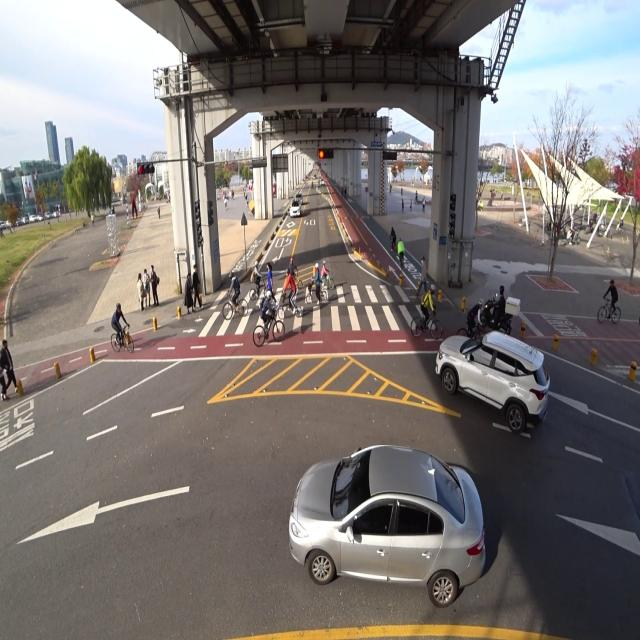Car: (278, 419, 494, 617), (433, 317, 550, 436), (290, 195, 300, 218), (295, 192, 303, 206)
Motorcycle: (478, 282, 522, 337)
